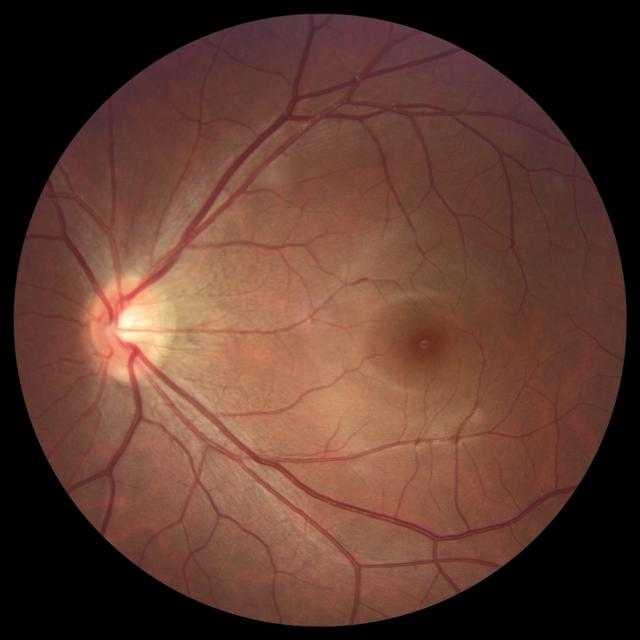OC: (109, 303, 149, 350)
OD: (87, 276, 169, 378)
